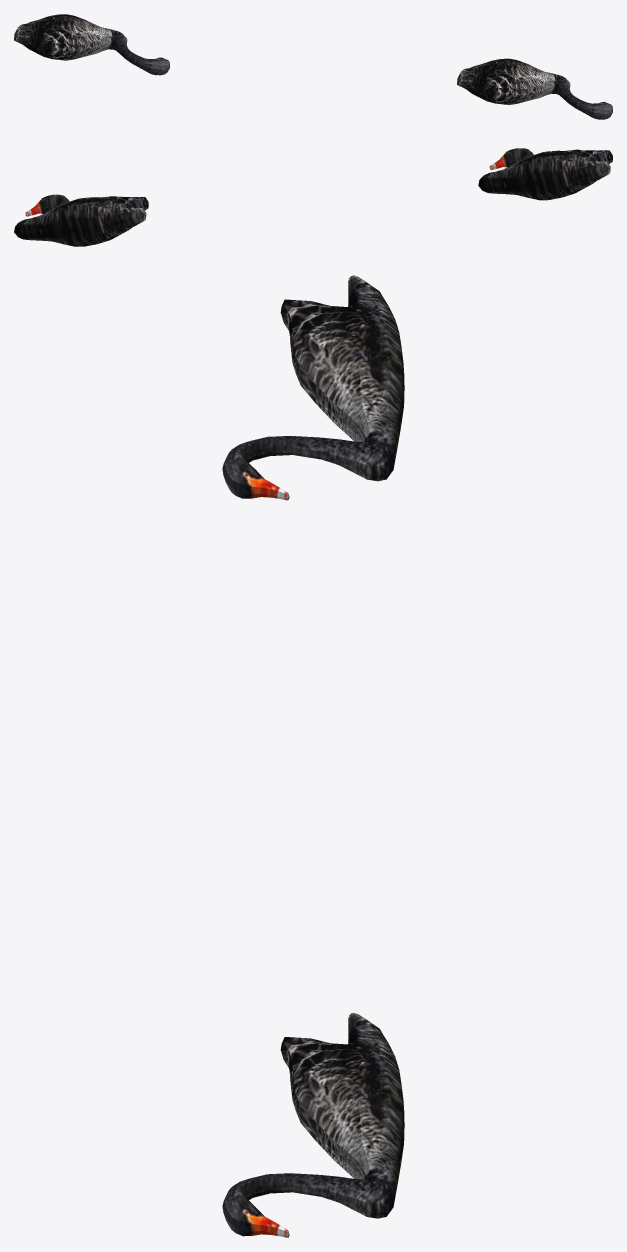
The picture shows the model from 3 angles, top to bottom: view 1: azimuth 30°, elevation 25°; view 2: azimuth 150°, elevation 25°; view 3: azimuth 270°, elevation 25°; orthographic projection. The views are drawn at different scales.
Visible parts, largest first — view 1: 天鹅2, 天鹅1; view 2: 天鹅2, 天鹅1; view 3: 天鹅2, 天鹅1.
Part boxes in pixels (<box>): 天鹅2: <box>14,14,169,75</box>; 天鹅1: <box>457,58,612,119</box>; 天鹅2: <box>478,148,612,200</box>; 天鹅1: <box>14,194,148,246</box>; 天鹅2: <box>222,275,404,500</box>; 天鹅1: <box>222,1012,404,1237</box>.
Size of the model in its own units: 21.62 by 7.45 by 2.97.
Materials: 1 (1 with a texture image).
